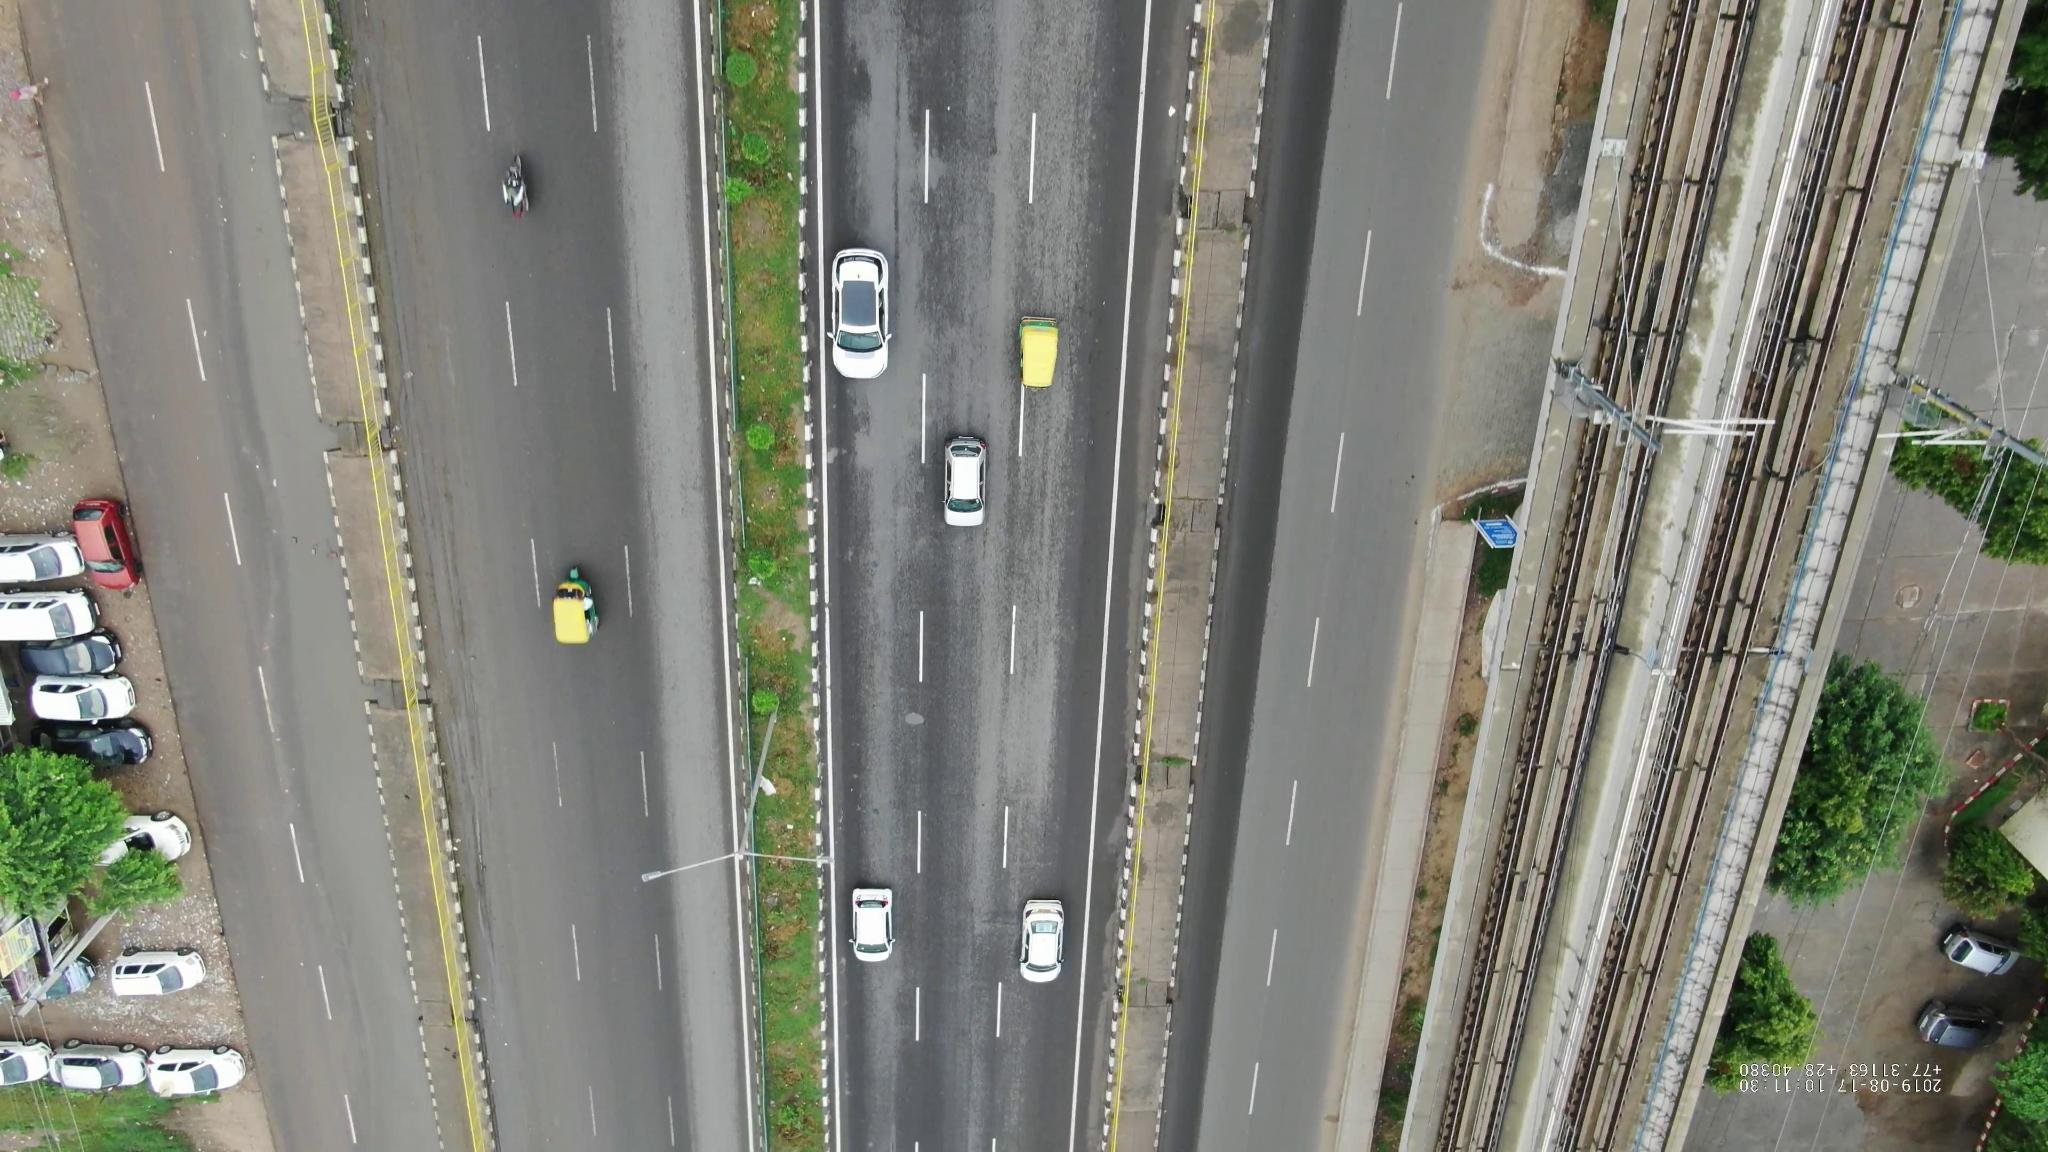Muddy_road: (371, 229, 467, 564), (426, 585, 504, 866)
Waterlogging: (203, 155, 331, 498), (279, 603, 392, 907)
